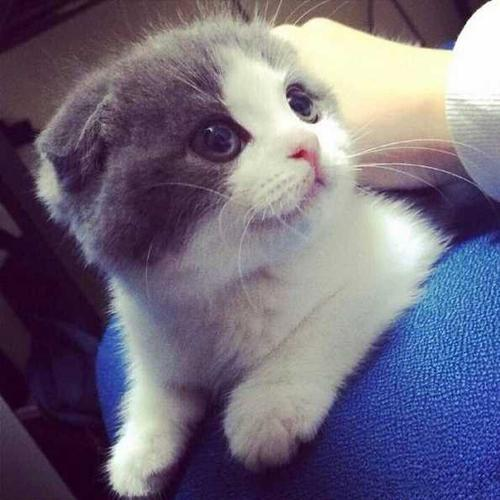cat: (60, 36, 360, 276)
